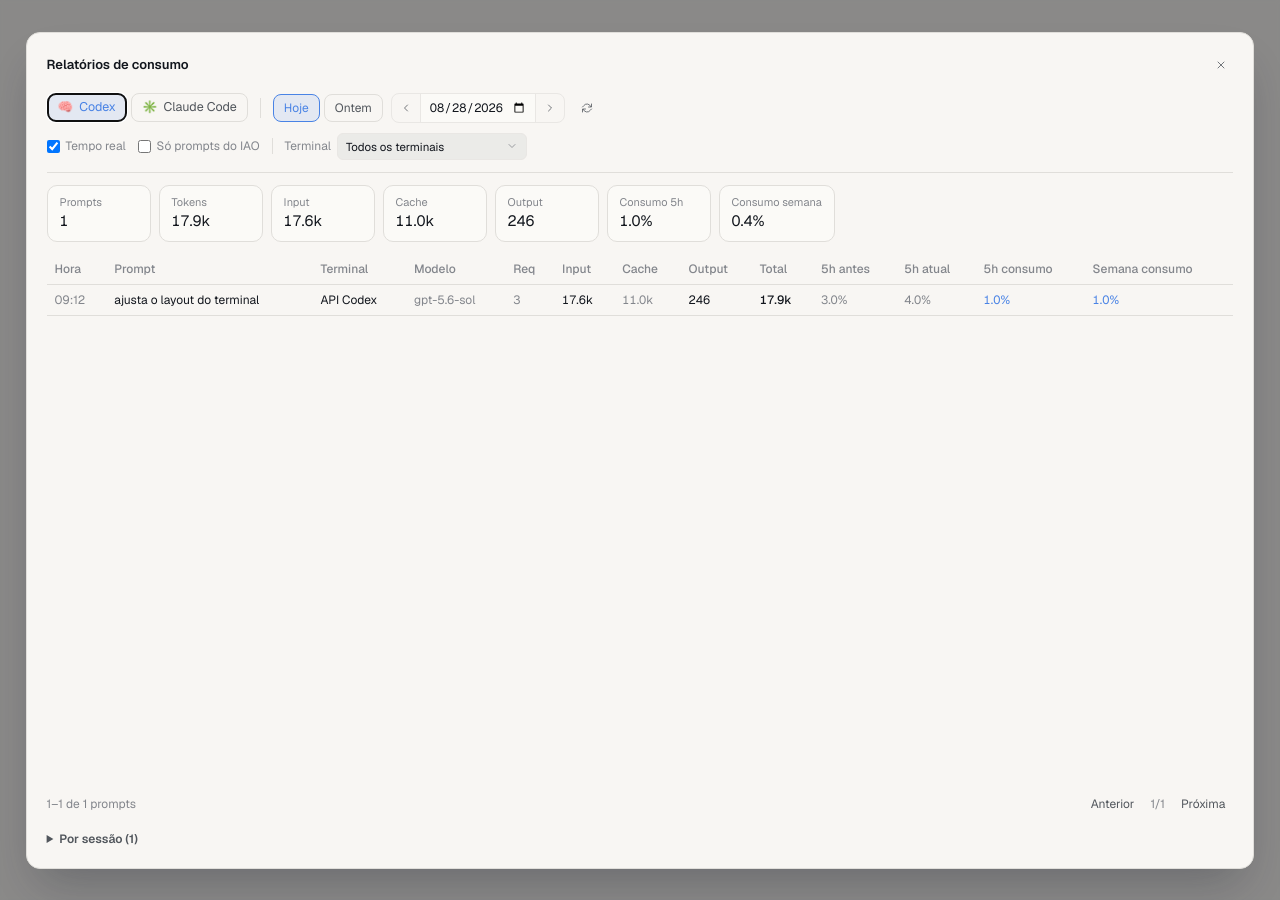
Test: ReportsModal › troca de agente pelas abas e esconde os limites quando o agente não os registra
The image size is (1280, 900).
expect the text "ajusta o layout do terminal" is shown: met, box top-left (106, 284), bottom-right (312, 315)
expect the text "Consumo 5h" is shown: met, box top-left (620, 195), bottom-right (684, 209)
Click the tab "✳️ Claude Code" at (189, 108), box top-left (131, 93), bottom-right (248, 122)
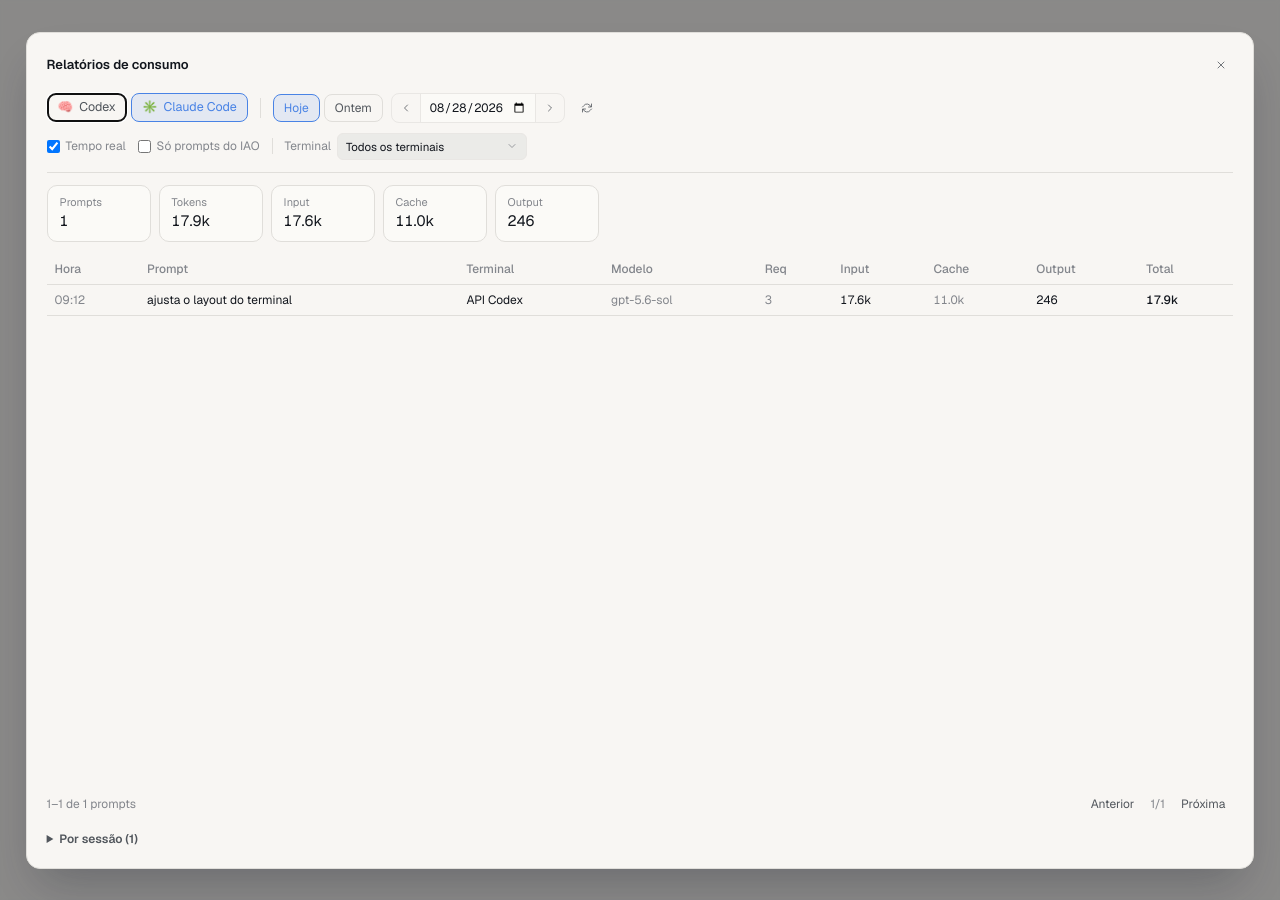
expect the text "ajusta o layout do terminal" is shown: met, box top-left (139, 284), bottom-right (458, 315)
expect the text "Consumo 5h" is gone: met
expect the column heading "5h consumo" is gone: met
